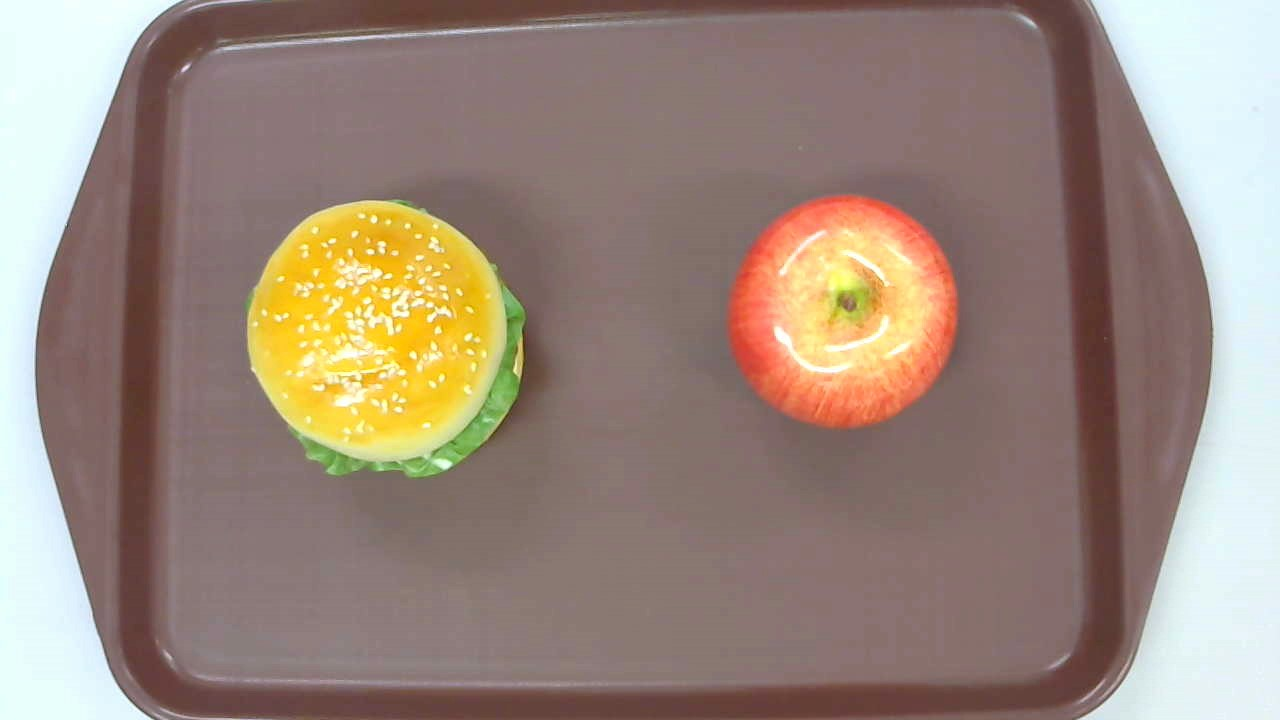hamburger: (246, 200, 524, 479)
red apple: (726, 193, 957, 431)
